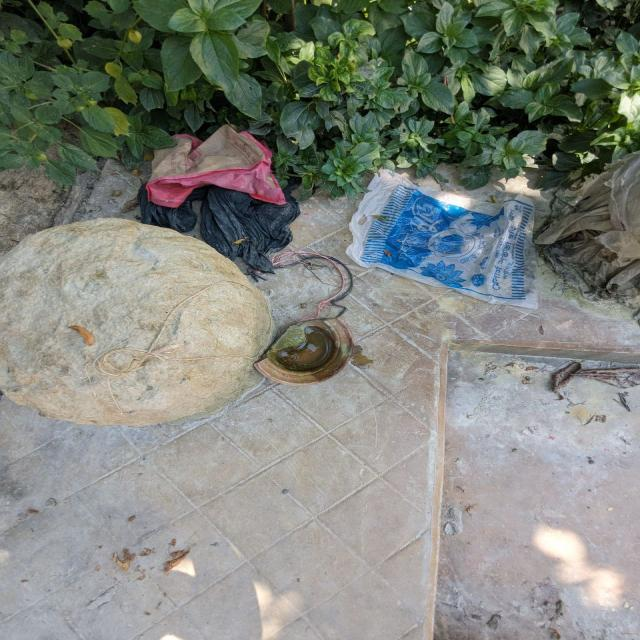Breeding Place: (346, 154, 552, 320), (236, 284, 384, 400)
